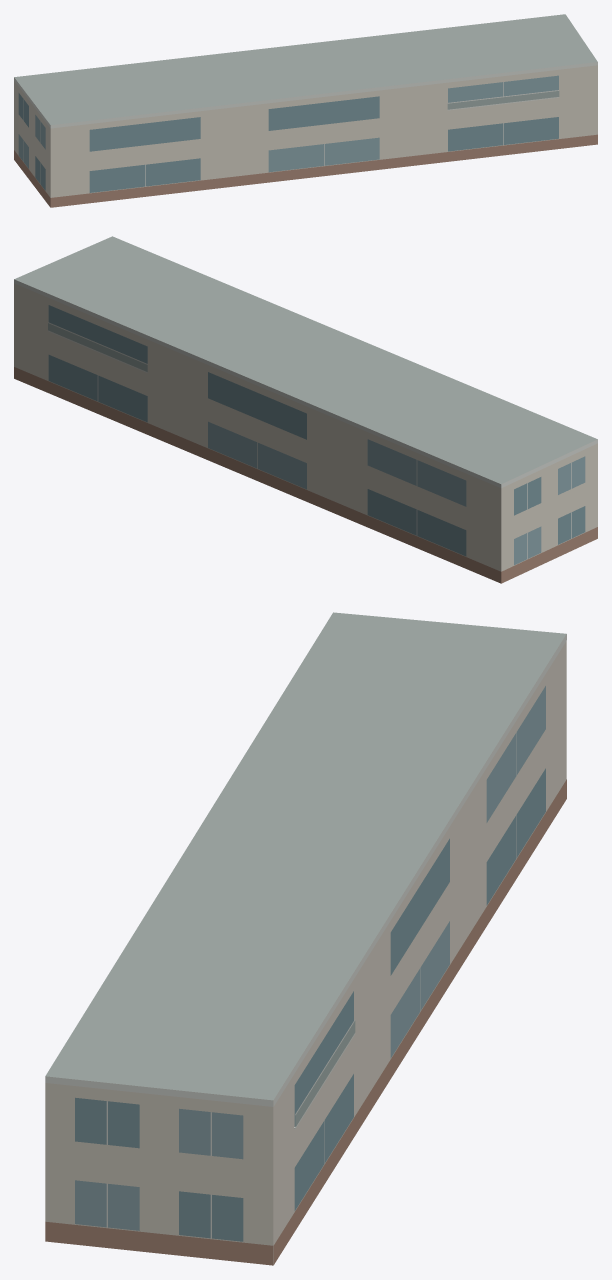
The model's file is survey-upis-32590067.glb.
3 views of the same model, one above another, from view 1: azimuth 30°, elevation 25°; view 2: azimuth 150°, elevation 25°; view 3: azimuth 270°, elevation 25° (orthographic). The views are drawn at different scales.
Visible parts, largest first — view 1: survey-upis-32590067.tmp; view 2: survey-upis-32590067.tmp; view 3: survey-upis-32590067.tmp.
Part boxes in pixels (left/top/right/bottom): survey-upis-32590067.tmp: left=14, top=14, right=597, bottom=207; survey-upis-32590067.tmp: left=14, top=236, right=597, bottom=583; survey-upis-32590067.tmp: left=45, top=612, right=566, bottom=1265.
Size of the model in its own units: 38.68 by 6.1 by 17.48.
